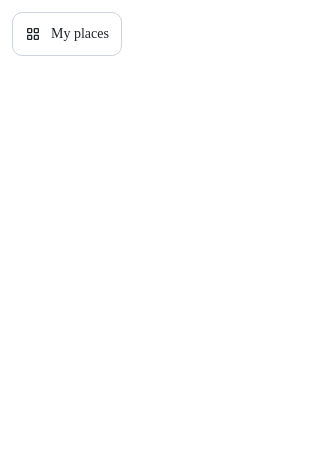
Test: <Places /> › also lists the places that only exist in the cloud
Hover over the button "My places" at (67, 34), box x1=12 y1=12 x2=122 y2=56
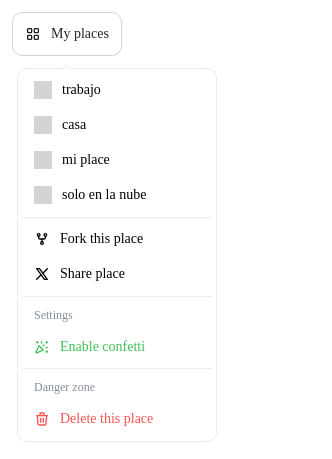
Check: the number of menu items "casa" is 1, box x1=34 y1=116 x2=86 y2=134
